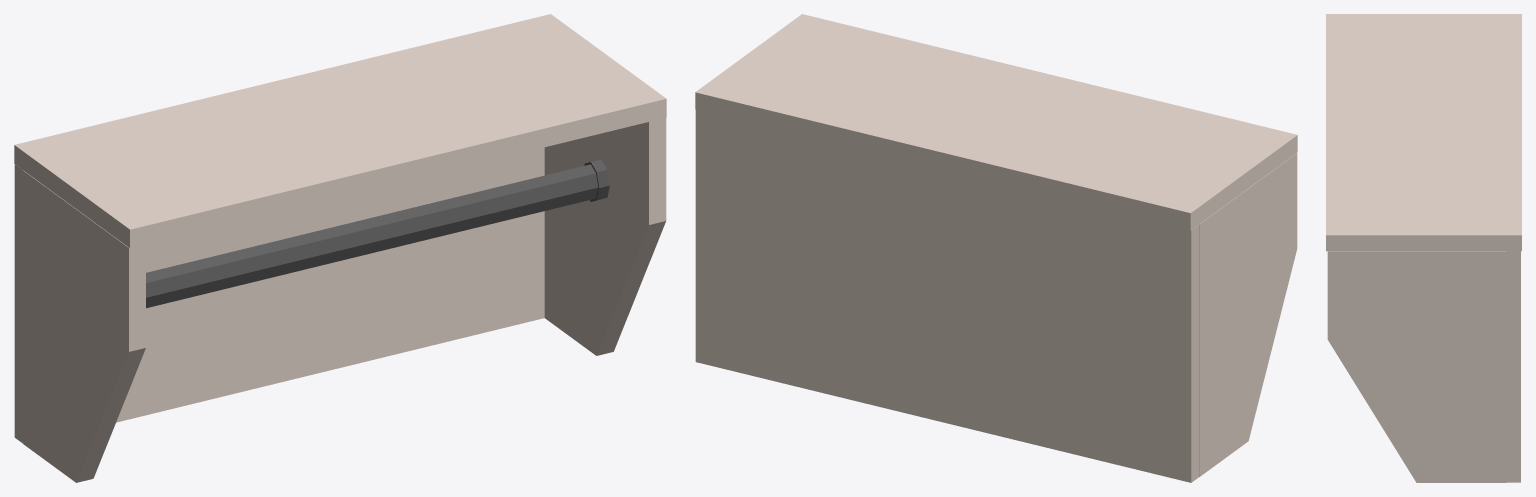
The model's file is Shelf_9.fbx.
3 views of the same model, side by side, from view 1: azimuth 30°, elevation 25°; view 2: azimuth 150°, elevation 25°; view 3: azimuth 270°, elevation 25° (orthographic). The views are drawn at different scales.
Visible parts, largest first — view 1: Shelf_9; view 2: Shelf_9; view 3: Shelf_9.
Part boxes in pixels (bbox=[...]): Shelf_9: bbox=[14, 14, 666, 482]; Shelf_9: bbox=[695, 14, 1297, 482]; Shelf_9: bbox=[1326, 14, 1521, 482].
Bounding box in the file's own units: 119 × 44.54 × 62.03.
